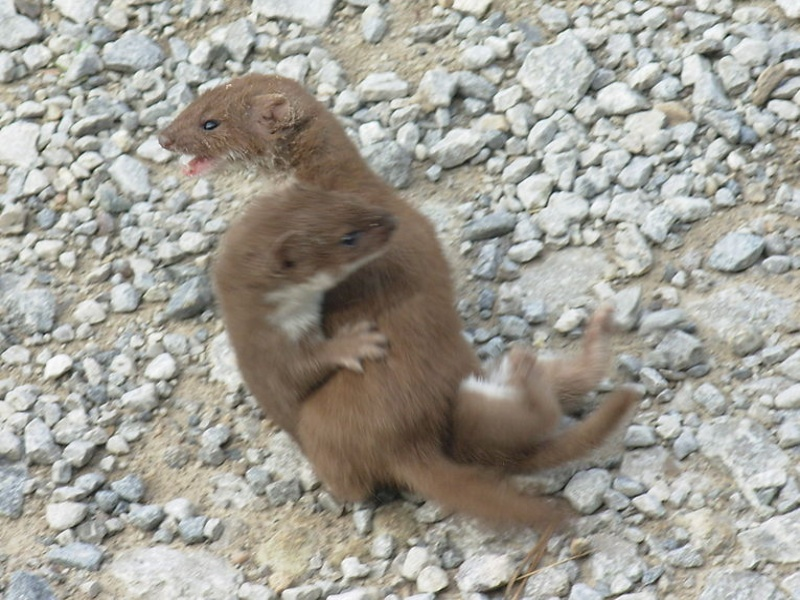minkish: (152, 76, 458, 531), (215, 187, 658, 465)
